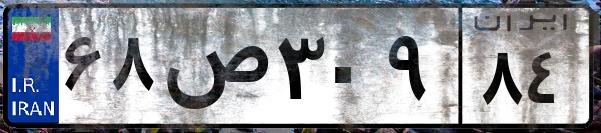0: (330, 28, 385, 110)
3: (270, 28, 330, 110)
4: (525, 38, 570, 115)
6: (57, 26, 110, 100)
8: (475, 38, 525, 113), (110, 28, 158, 98)
9: (385, 28, 445, 110)
ص: (158, 20, 270, 120)
